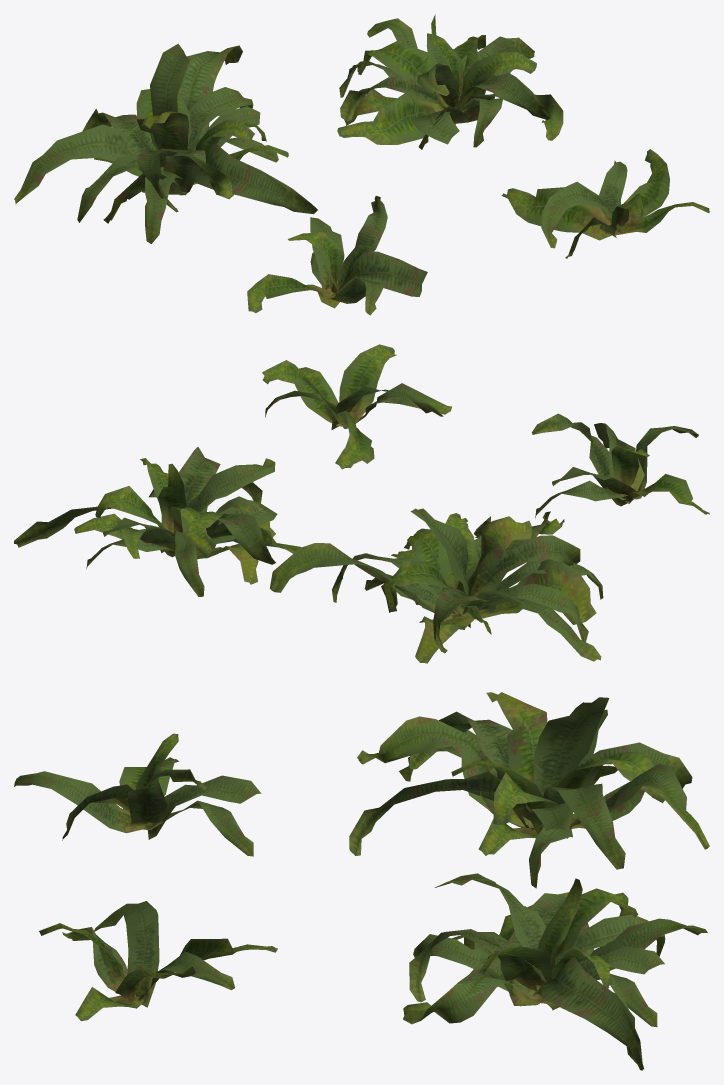
The model's file is fern_02.glb.
The picture shows the model from 3 angles, top to bottom: view 1: azimuth 30°, elevation 25°; view 2: azimuth 150°, elevation 25°; view 3: azimuth 270°, elevation 25°; orthographic projection. The views are drawn at different scales.
Visible parts, largest first — view 1: fern_02_b, fern_02_c, fern_02_a, fern_02_d; view 2: fern_02_b, fern_02_c, fern_02_d, fern_02_a; view 3: fern_02_b, fern_02_c, fern_02_a, fern_02_d.
Boxes of the visible parts, x1,y1,x2,y2 form: fern_02_b: (14, 43, 317, 243); fern_02_c: (337, 14, 563, 149); fern_02_a: (247, 196, 427, 315); fern_02_d: (501, 149, 709, 258); fern_02_b: (270, 508, 603, 663); fern_02_c: (14, 447, 301, 596); fern_02_d: (262, 344, 451, 469); fern_02_a: (531, 413, 709, 517); fern_02_b: (349, 692, 709, 888); fern_02_c: (403, 873, 707, 1070); fern_02_a: (14, 733, 261, 856); fern_02_d: (39, 901, 277, 1021).
Size of the model in its own units: 1.97 by 0.4277 by 1.72.
Materials: 1 (1 with a texture image).
